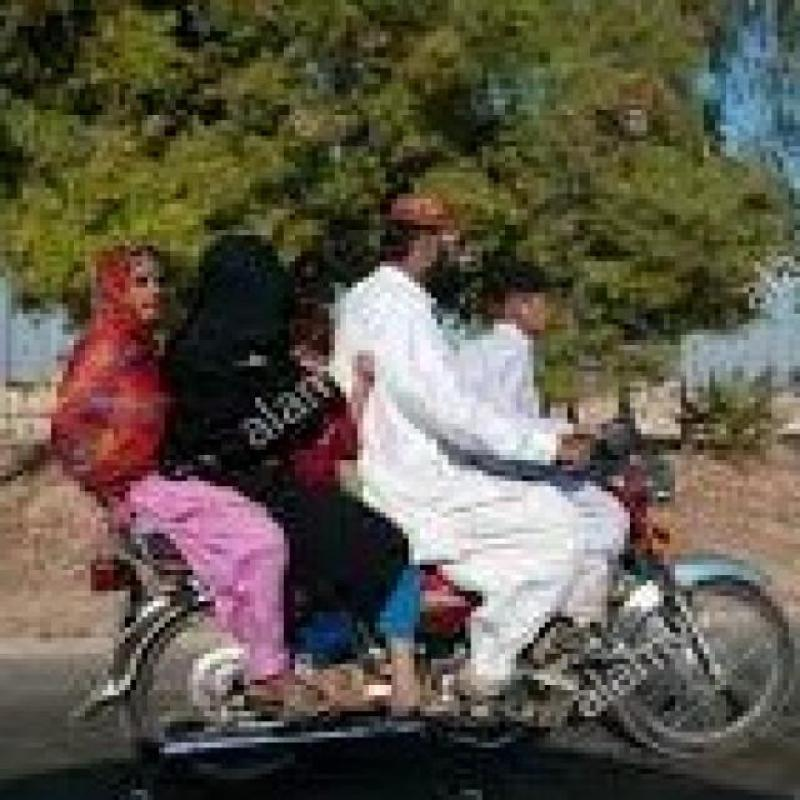nohelmet: (338, 146, 477, 300), (66, 221, 210, 345)
